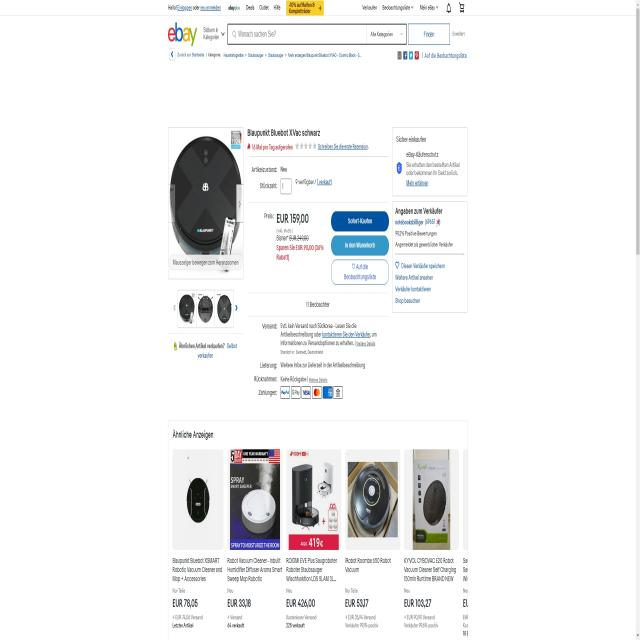search: (226, 22, 451, 45)
tab-bar: (168, 42, 364, 66)
